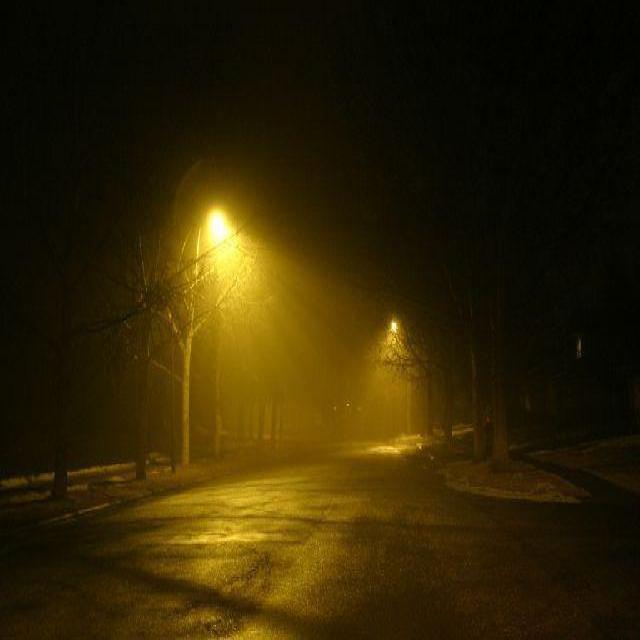other: (190, 194, 252, 280), (390, 314, 404, 361)
